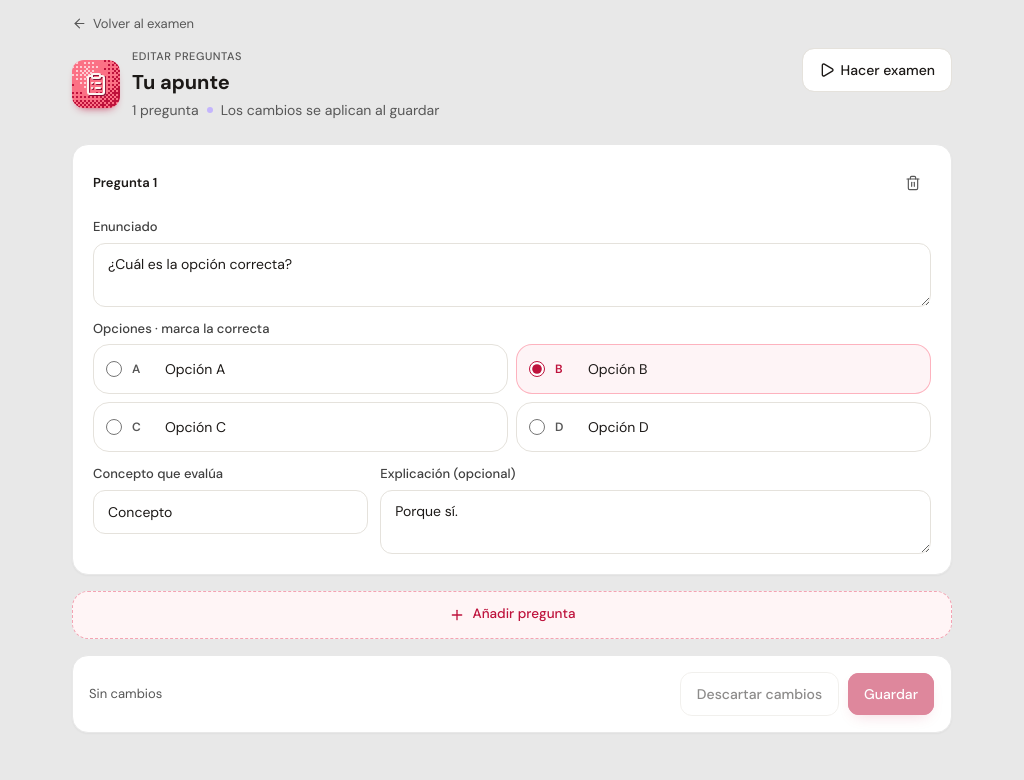
Test case: ExamEditPage (Phase 8 H18) › refuses repeated options inline
Type "Opción A" into the field named "Opción C" at (330, 427), box left=158, top=409, right=501, bottom=445
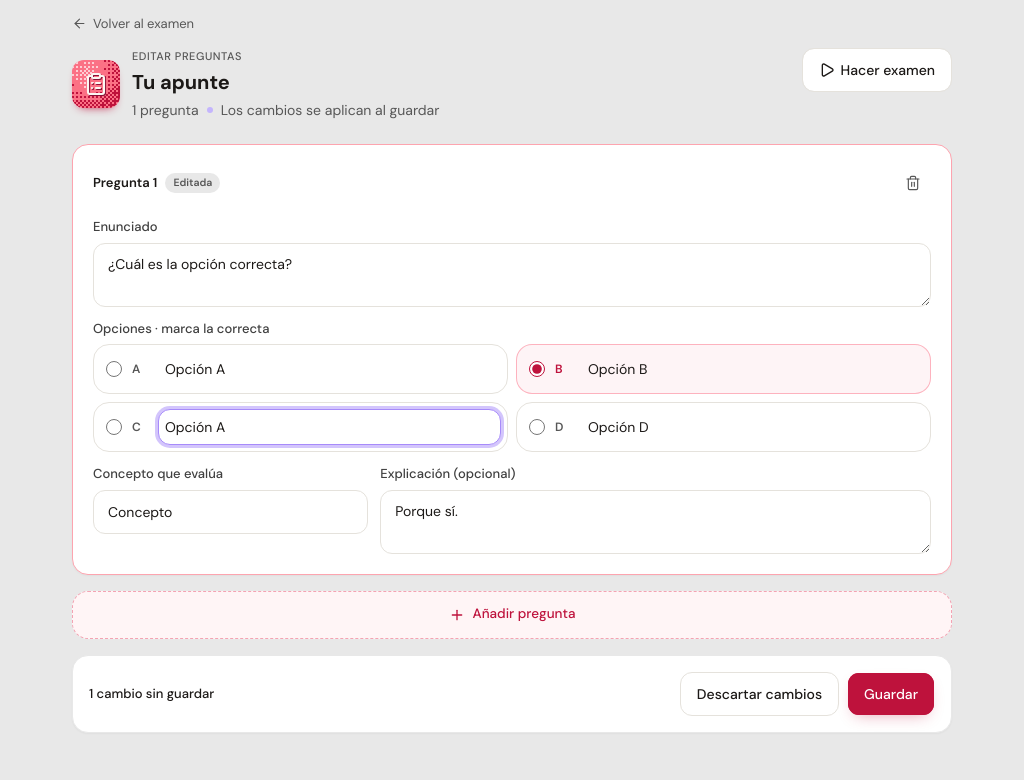
Click the button "Guardar" at (891, 694), box left=847, top=672, right=935, bottom=716
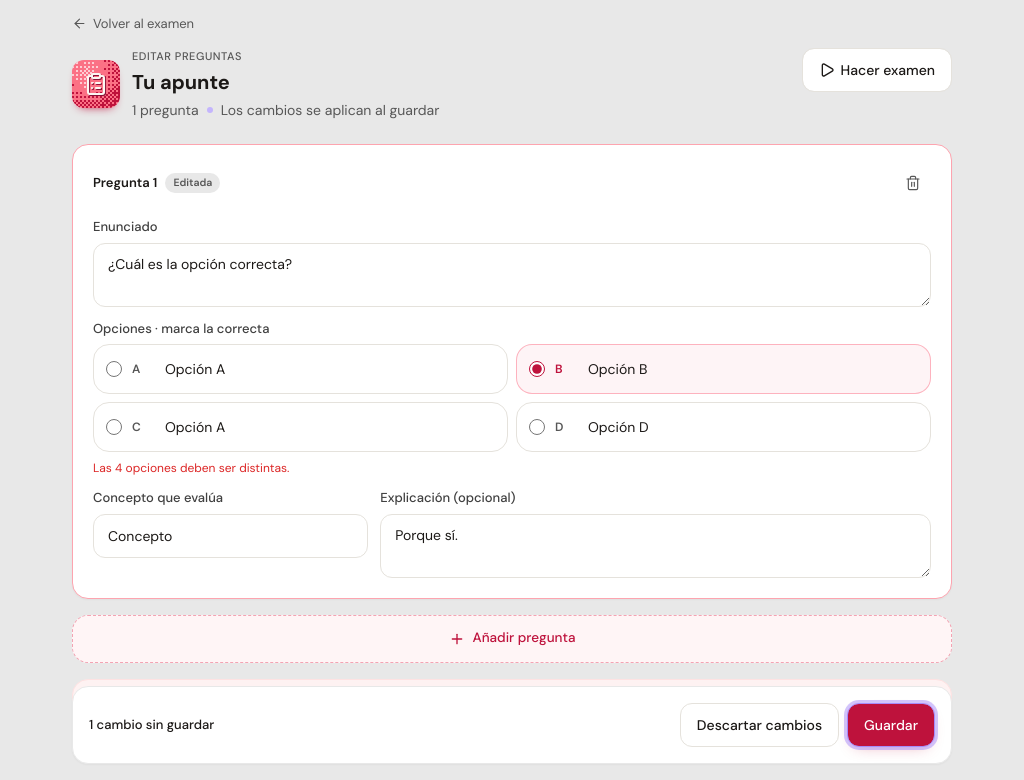
Check: the text "Las 4 opciones deben ser distintas." is shown, box left=93, top=460, right=290, bottom=476
